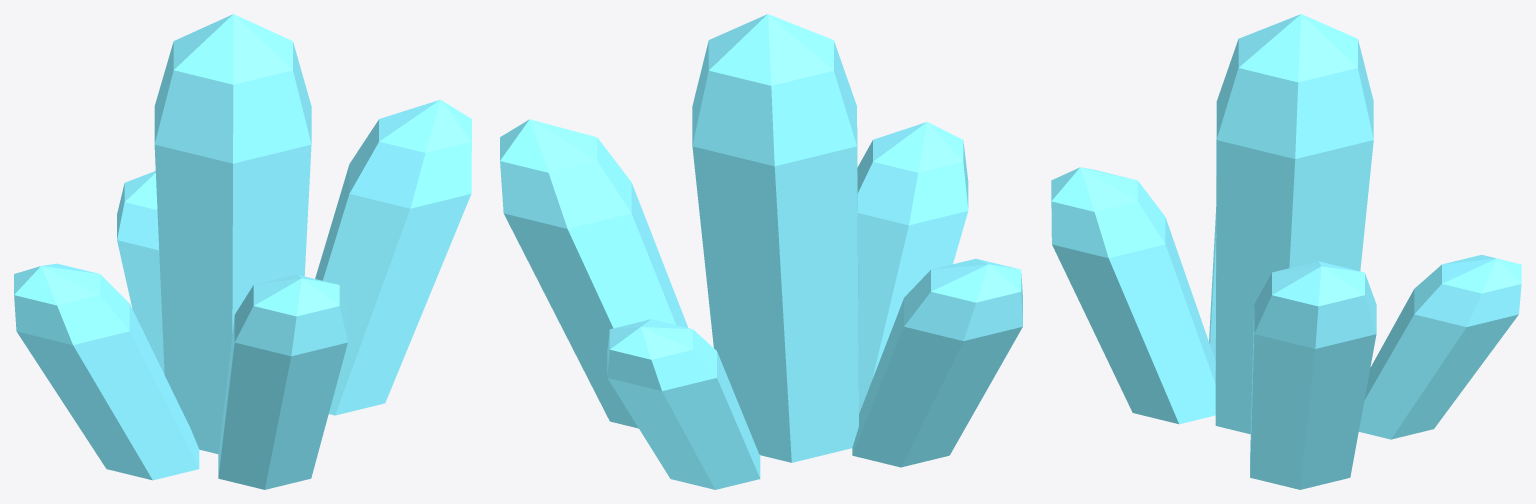
Rendered from crystal_refined.glb.
The picture shows the model from 3 angles, left to right: view 1: azimuth 30°, elevation 25°; view 2: azimuth 150°, elevation 25°; view 3: azimuth 270°, elevation 25°; orthographic projection. The views are drawn at different scales.
Visible parts, largest first — view 1: Refined_PrismaticCluster.001; view 2: Refined_PrismaticCluster.001; view 3: Refined_PrismaticCluster.001.
Boxes of the visible parts, x1,y1,x2,y2 form: Refined_PrismaticCluster.001: (14,14,471,489); Refined_PrismaticCluster.001: (500,14,1022,489); Refined_PrismaticCluster.001: (1051,14,1521,489).
Size of the model in its own units: 1.1 by 0.88 by 0.9325.
